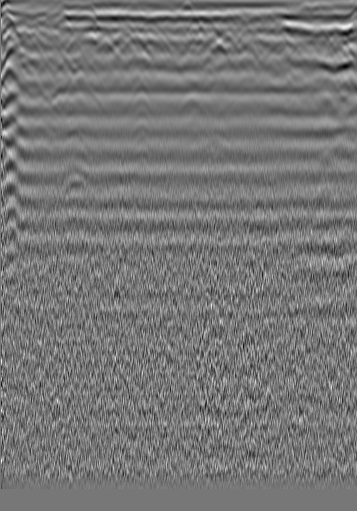가스: (55, 162, 92, 198)
상수: (313, 23, 333, 43)
우수: (183, 40, 203, 60)
